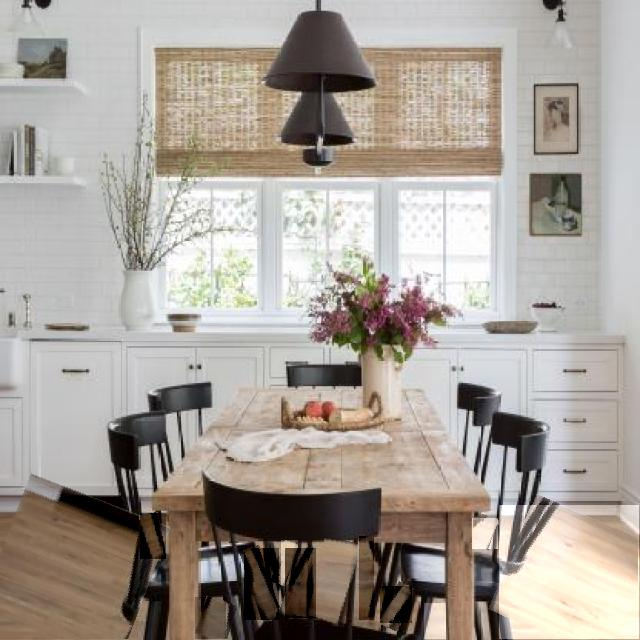floor: (0, 486, 138, 640), (500, 505, 639, 640), (311, 539, 360, 625), (245, 548, 279, 620), (285, 548, 316, 618), (195, 598, 226, 639), (140, 514, 166, 559), (360, 537, 374, 620), (381, 587, 412, 623), (281, 540, 298, 586), (473, 518, 498, 549), (424, 604, 446, 639)
